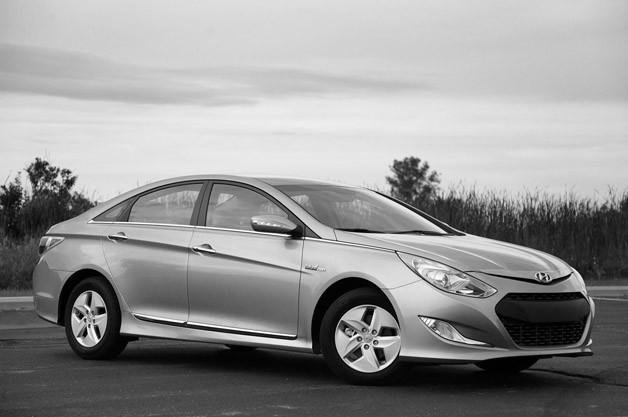car: (30, 174, 598, 379)
